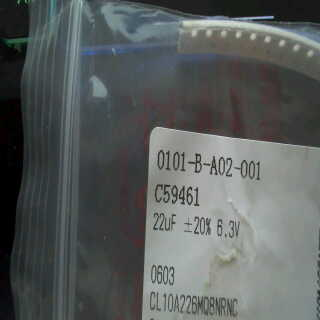22uF: (151, 211, 179, 234)
